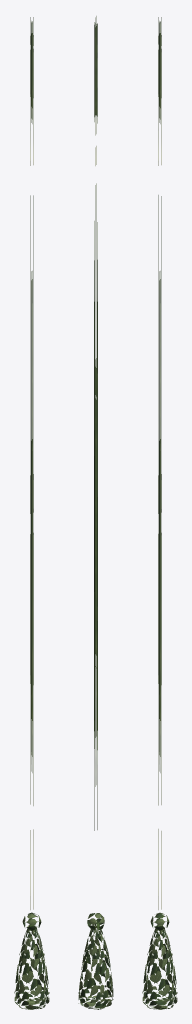
The model's file is Tassel.fbx.
3 renders of one model, left to right at view 1: azimuth 90°, elevation 25°; view 2: azimuth 150°, elevation 25°; view 3: azimuth 270°, elevation 25°, orthographic.
Parts seen in each view (by area): view 1: Tassel.001; view 2: Tassel.001; view 3: Tassel.001.
Part boxes in pixels (<box>): Tassel.001: <box>14,17,49,1009</box>; Tassel.001: <box>78,16,113,1009</box>; Tassel.001: <box>142,17,177,1009</box>.
Bounding box in the file's own units: 50.22 × 1567 × 50.22.
